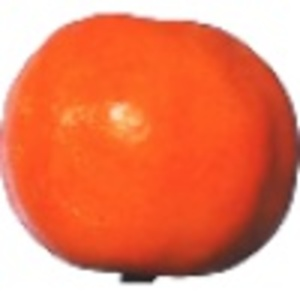tangerina: (1, 9, 300, 283)
